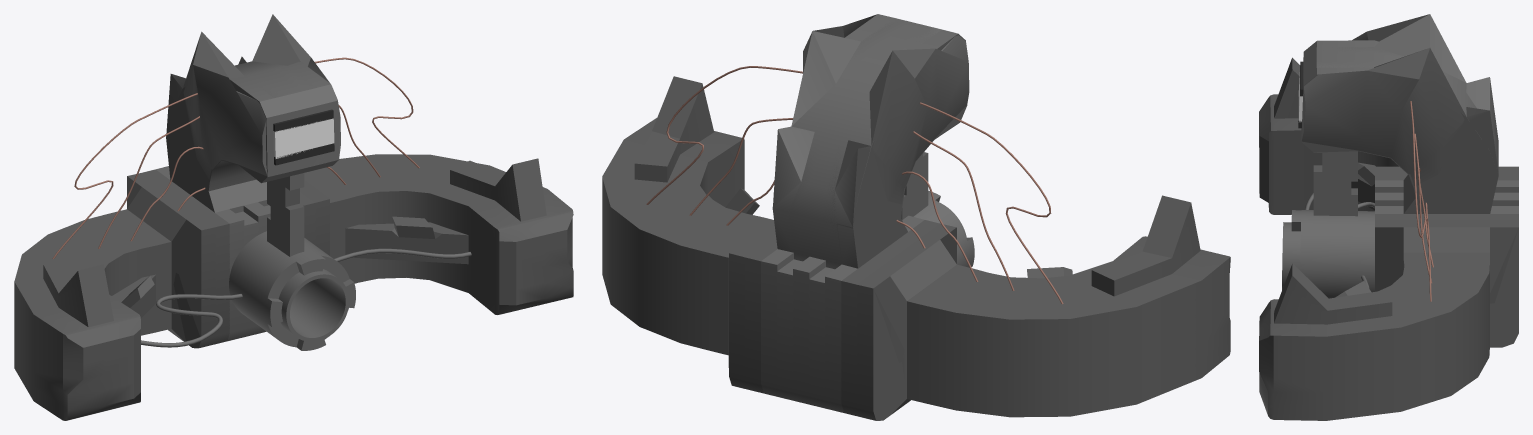
File: Enemy3.fbx
3 renders of one model, left to right at view 1: azimuth 30°, elevation 25°; view 2: azimuth 150°, elevation 25°; view 3: azimuth 270°, elevation 25°, orthographic. The views are drawn at different scales.
Parts seen in each view (by area): view 1: Cube.003, Cylinder.001, BezierCurve.005, Cube.005, BezierCurve.003, BezierCurve.004, Cube.006, Cube.007; view 2: Cube.003, BezierCurve.003, Cylinder.001, BezierCurve.004; view 3: Cube.003, Cylinder.001, BezierCurve.004.
Boxes of the visible parts, x1,y1,x2,y2 form: Cube.003: [14, 14, 573, 420]; Cylinder.001: [229, 231, 355, 350]; BezierCurve.005: [141, 248, 471, 347]; Cube.005: [273, 118, 334, 158]; BezierCurve.003: [52, 93, 205, 258]; BezierCurve.004: [315, 57, 419, 184]; Cube.006: [273, 109, 333, 131]; Cube.007: [274, 143, 334, 165]; Cube.003: [602, 14, 1230, 420]; BezierCurve.003: [896, 102, 1063, 304]; Cylinder.001: [913, 191, 974, 267]; BezierCurve.004: [646, 66, 802, 225]; Cube.003: [1259, 14, 1518, 420]; Cylinder.001: [1282, 210, 1374, 298]; BezierCurve.004: [1410, 101, 1433, 301].
Size of the model in its own units: 800 by 439 by 361.
